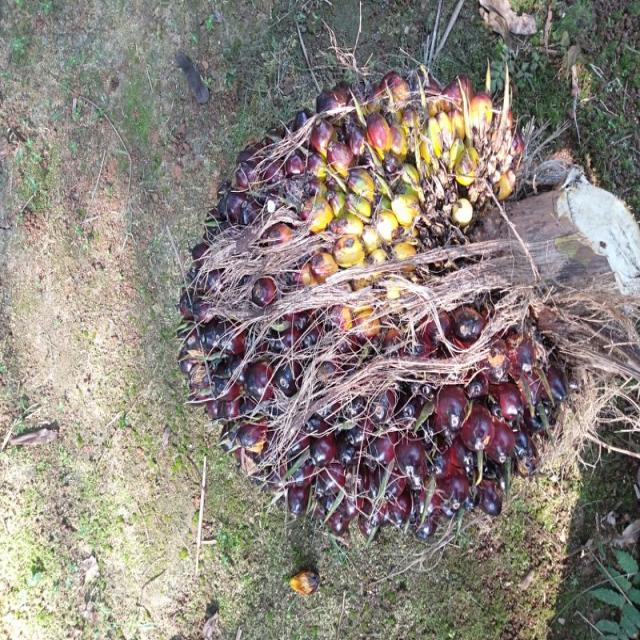fraksi 1: (160, 44, 640, 582)
